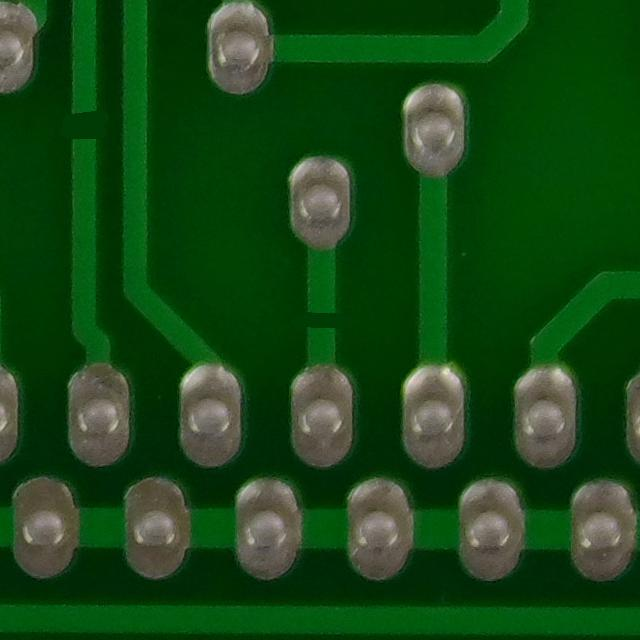open_circuit: (294, 296, 346, 345)
